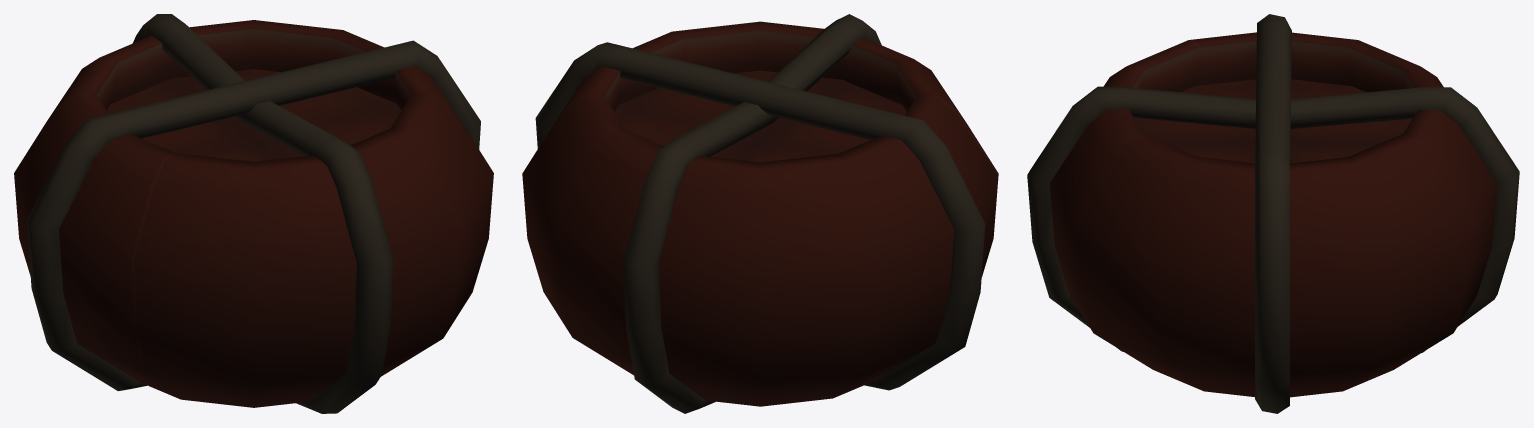
File: Pot3.FBX
3 views of the same model, side by side, from view 1: azimuth 30°, elevation 25°; view 2: azimuth 150°, elevation 25°; view 3: azimuth 270°, elevation 25° (orthographic). The views are drawn at different scales.
Parts seen in each view (by area): view 1: Pot3; view 2: Pot3; view 3: Pot3.
Part boxes in pixels (x1,y1,x2,y2): Pot3: [14, 14, 493, 413]; Pot3: [522, 14, 998, 413]; Pot3: [1027, 14, 1519, 413].
Bounding box in the file's own units: 0.9281 × 0.5865 × 0.9281.
